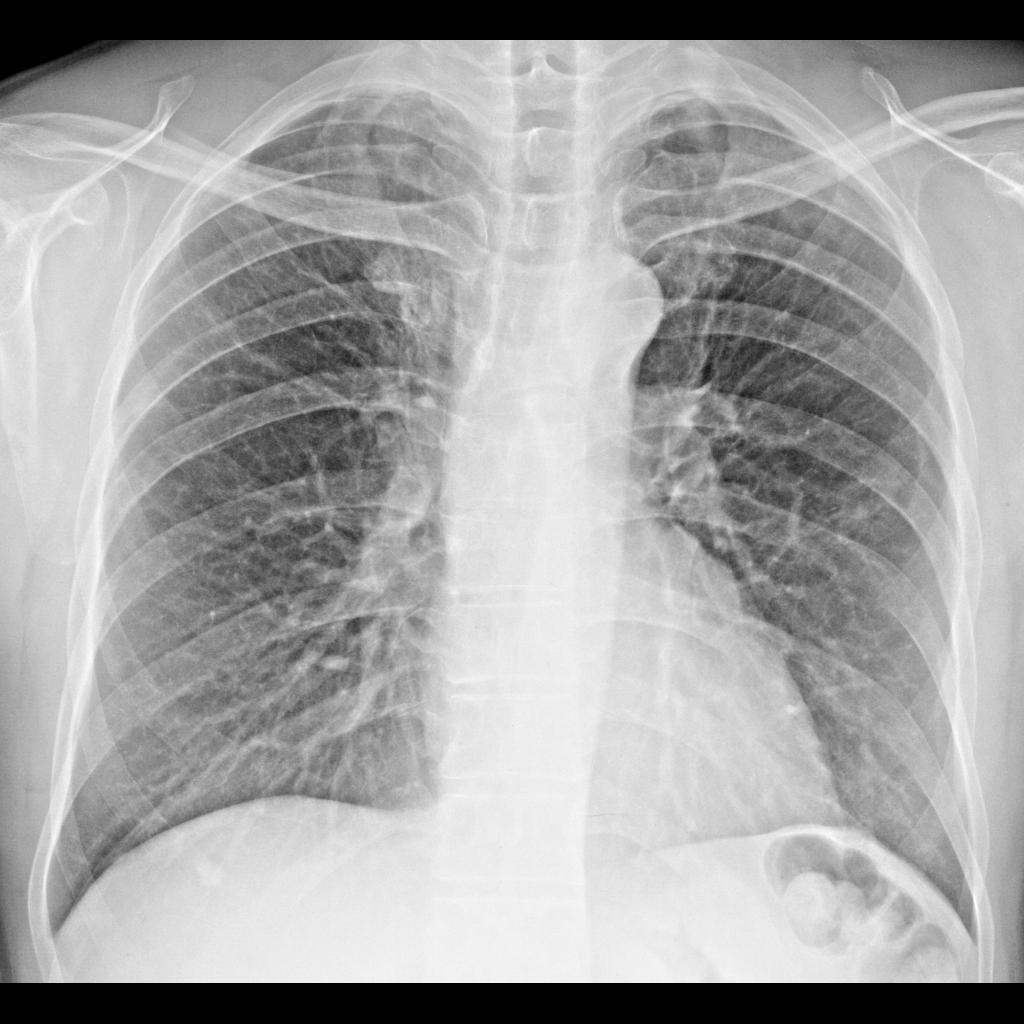Nodule: (831, 471, 897, 538)
